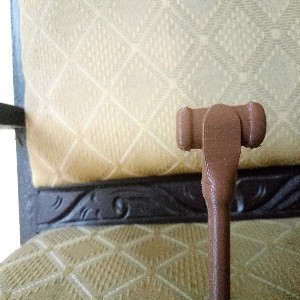palu: (175, 101, 267, 300)
